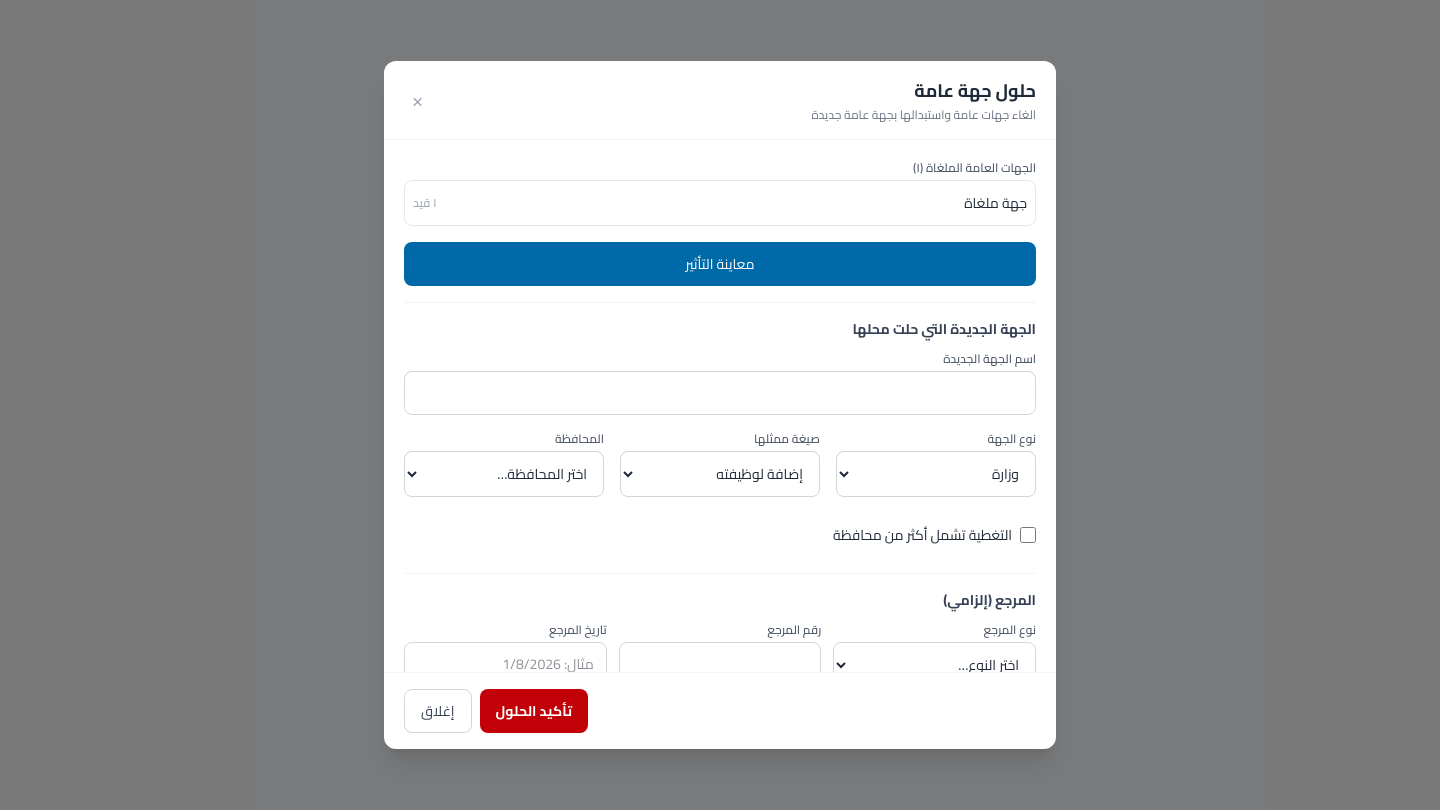
Test: AbolishBranchModal › يرفض التنفيذ بلا اسم جهة جديدة
The image size is (1440, 810).
Click the button "تأكيد الحلول". click: (534, 711)
box: [480,689,588,733]
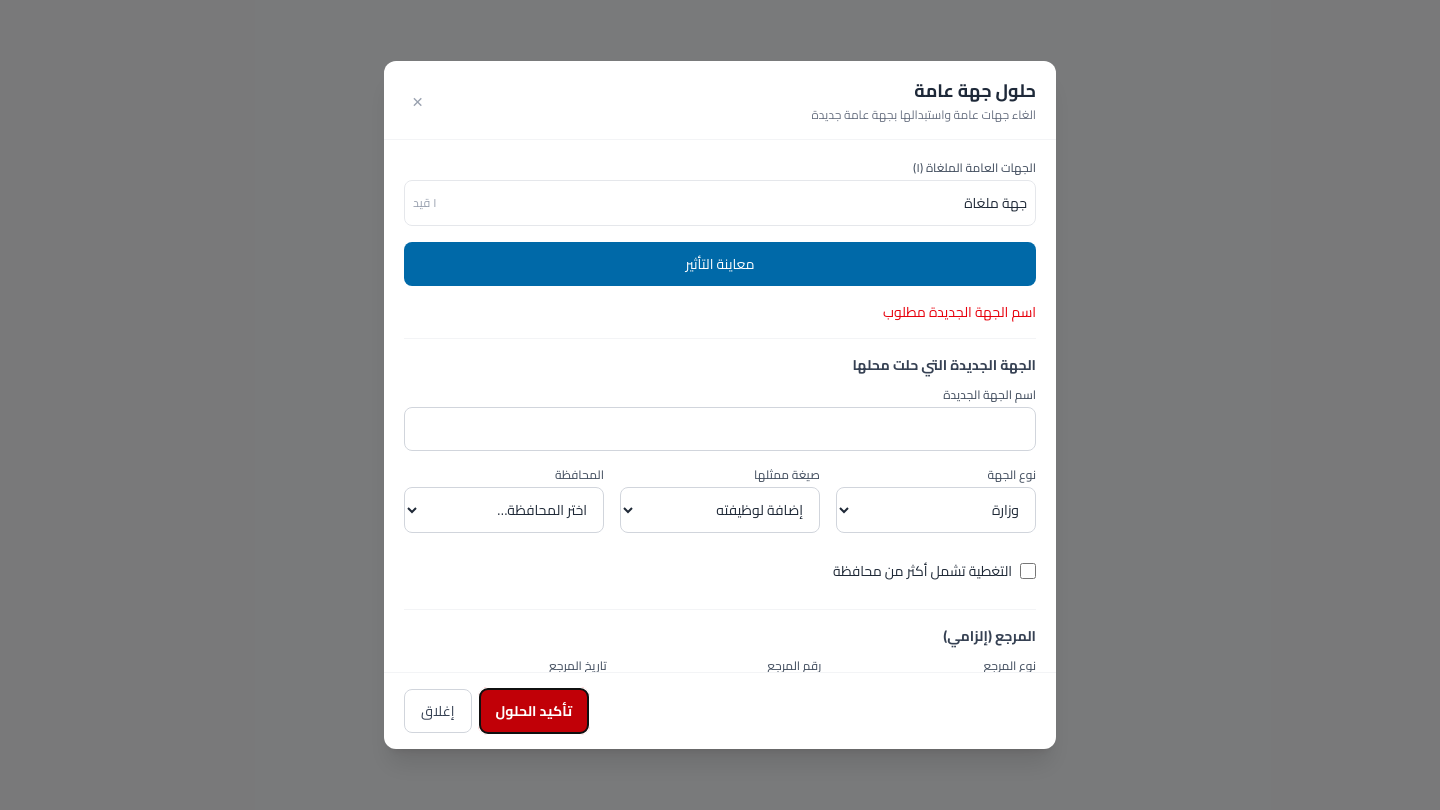
Check: the text "اسم الجهة الجديدة مطلوب" is shown, box [883,299,1036,325]
